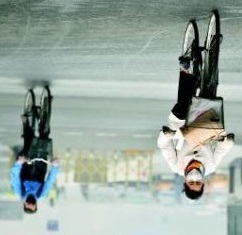person: (155, 44, 232, 201), (7, 106, 58, 216)
